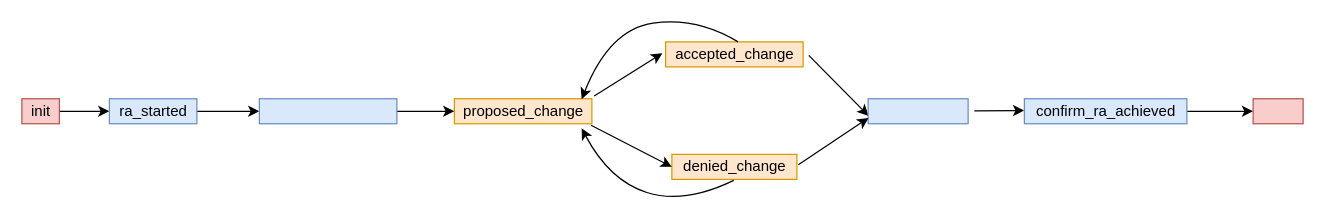
Image size: 1325x219. Some labels were removed from this diagram. The box of each missing label's shape, as (x1, y1, x2, y2) in pixels:
confirm_ra_stated: (258, 98, 397, 124)
end: (1252, 98, 1303, 124)
ra_accepted: (867, 98, 968, 124)
